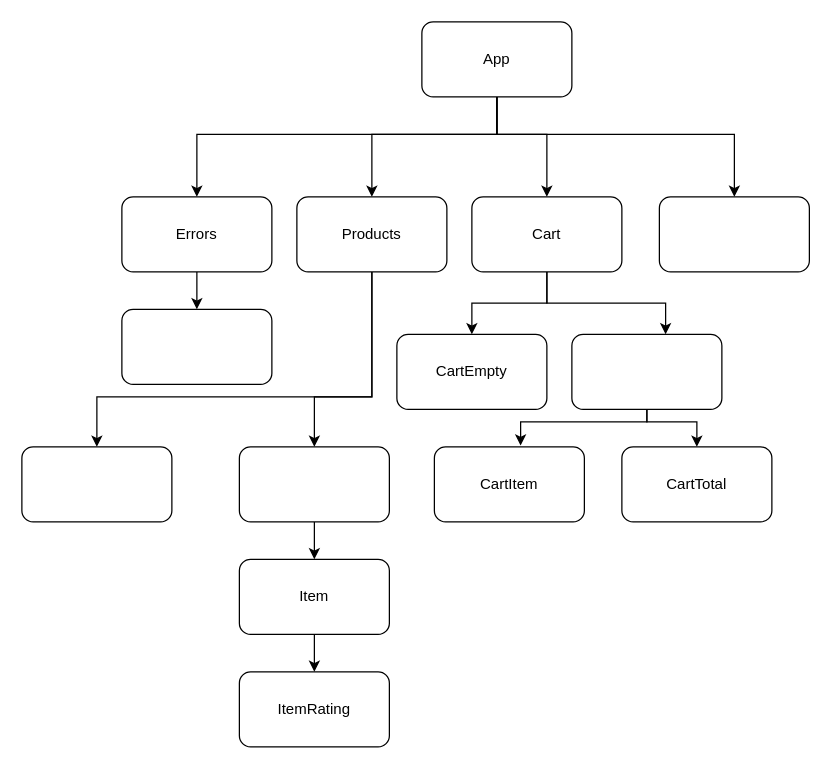
Image size: 831x769. Some labels were removed from this diagram. Here are the shapes that lost their labels. From the top down, the centre of each, then its label:
At pixel 733 234: "TopNav".
At pixel 196 346: "Error404".
At pixel 646 371: "CartFull".
At pixel 96 484: "NavigationSection".
At pixel 313 484: "ItemGallery".
